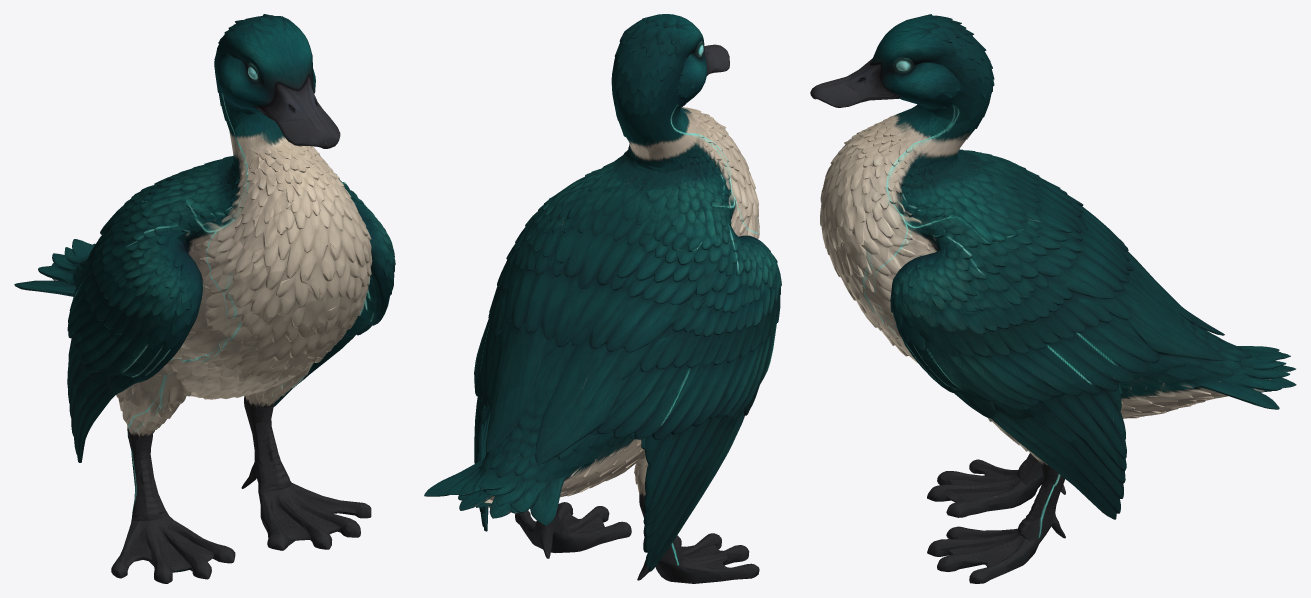
File: reedwing_a.glb
The picture shows the model from 3 angles, left to right: view 1: azimuth 30°, elevation 25°; view 2: azimuth 150°, elevation 25°; view 3: azimuth 270°, elevation 25°; orthographic projection. The views are drawn at different scales.
Parts seen in each view (by area): view 1: Mesh_0; view 2: Mesh_0; view 3: Mesh_0.
Boxes of the visible parts, box(x1,y1,x2,y2) form: Mesh_0: box(14, 14, 395, 583); Mesh_0: box(424, 14, 781, 583); Mesh_0: box(810, 14, 1296, 583).
Bounding box in the file's own units: 0.9747 × 1.9 × 1.66.
1 material, 1 textured.
